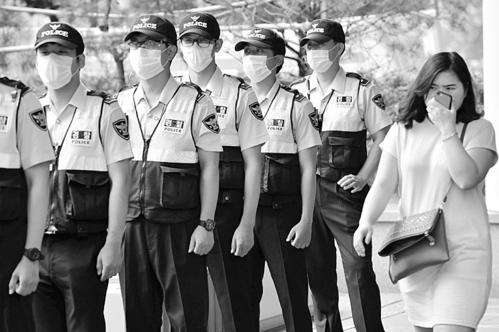yes_mask: (415, 50, 477, 121), (121, 14, 178, 81), (31, 22, 85, 92), (174, 8, 223, 75), (298, 14, 347, 79), (234, 26, 287, 85)
